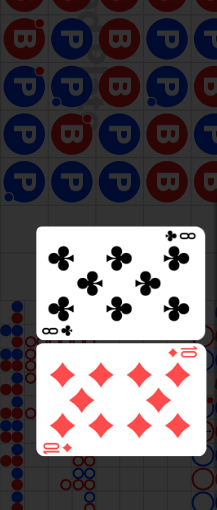10D: (42, 441, 74, 454)
8C: (162, 230, 197, 244)
